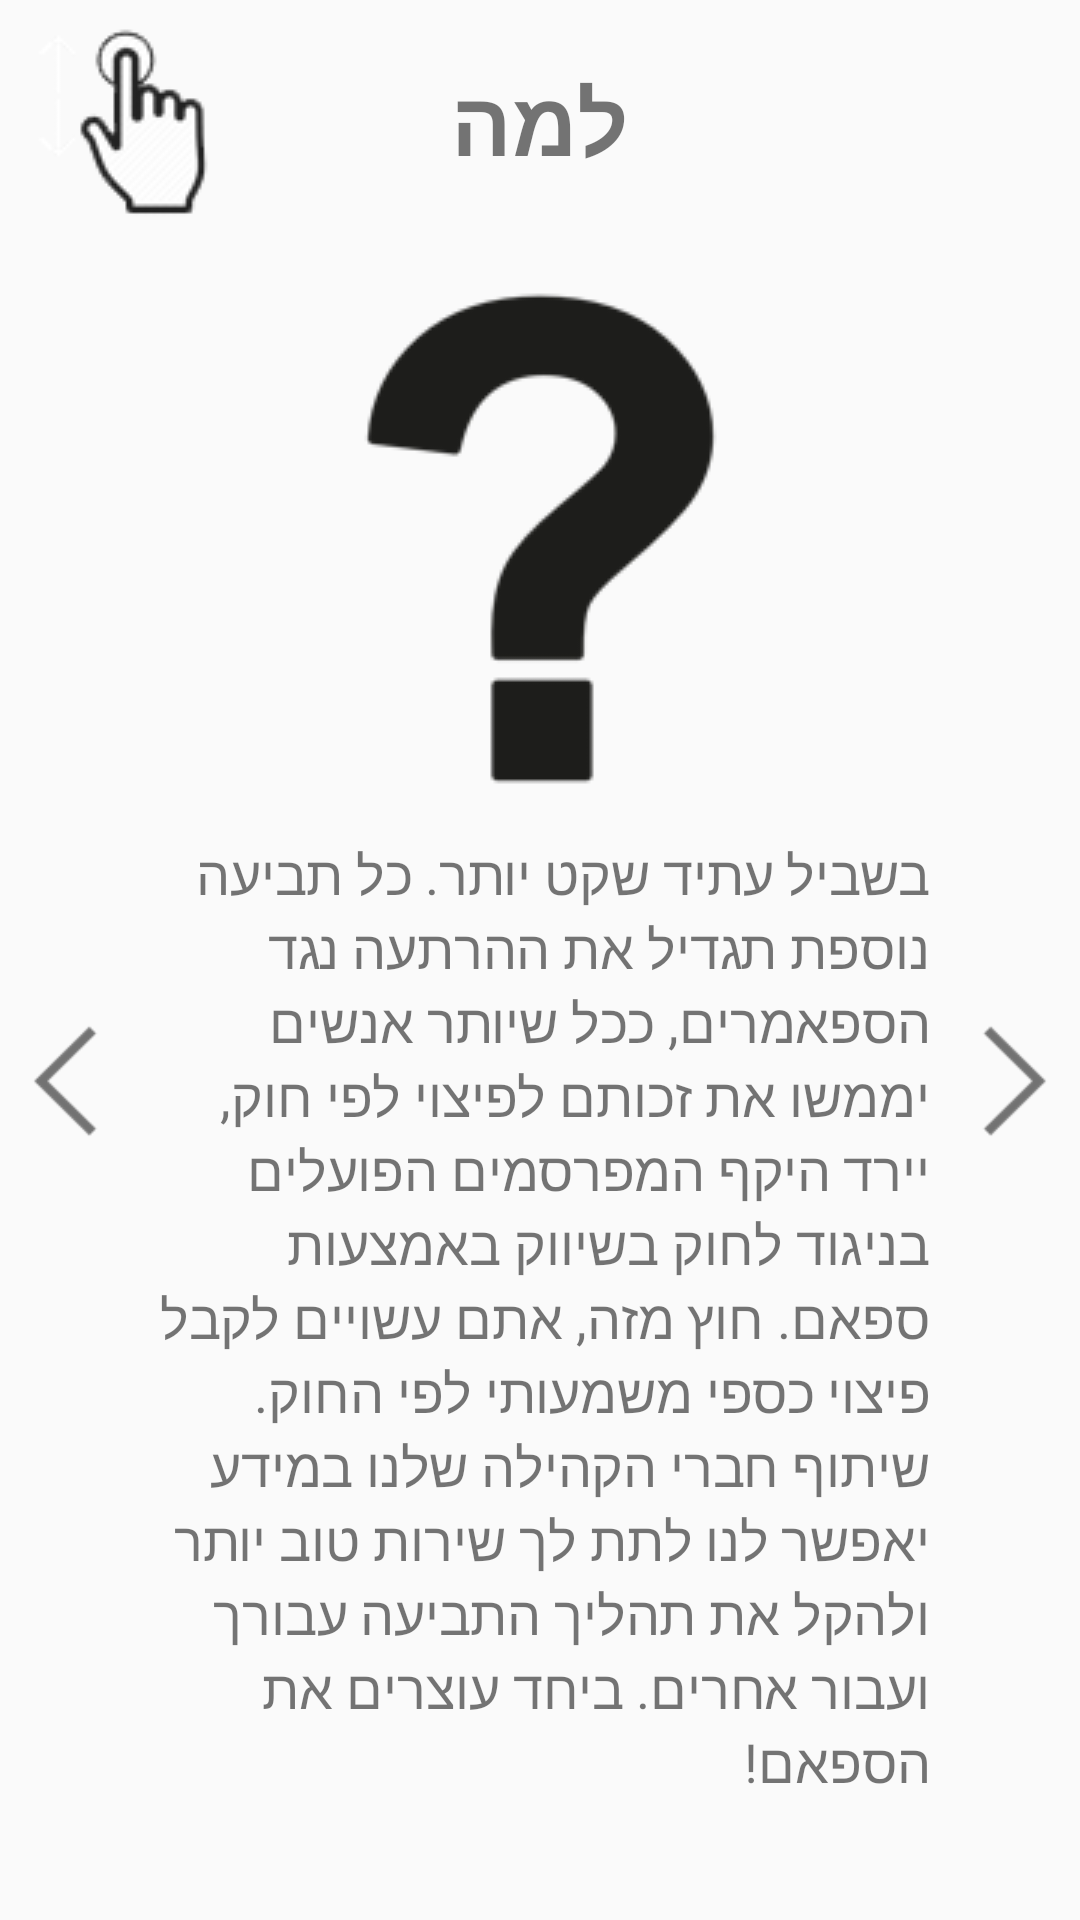

Icons on this 1080 x 1920 Android screen, each with the point to tap as (x=x, y=y):
navarrow: (x=1015, y=1081)
navarrowleft: (x=65, y=1081)
